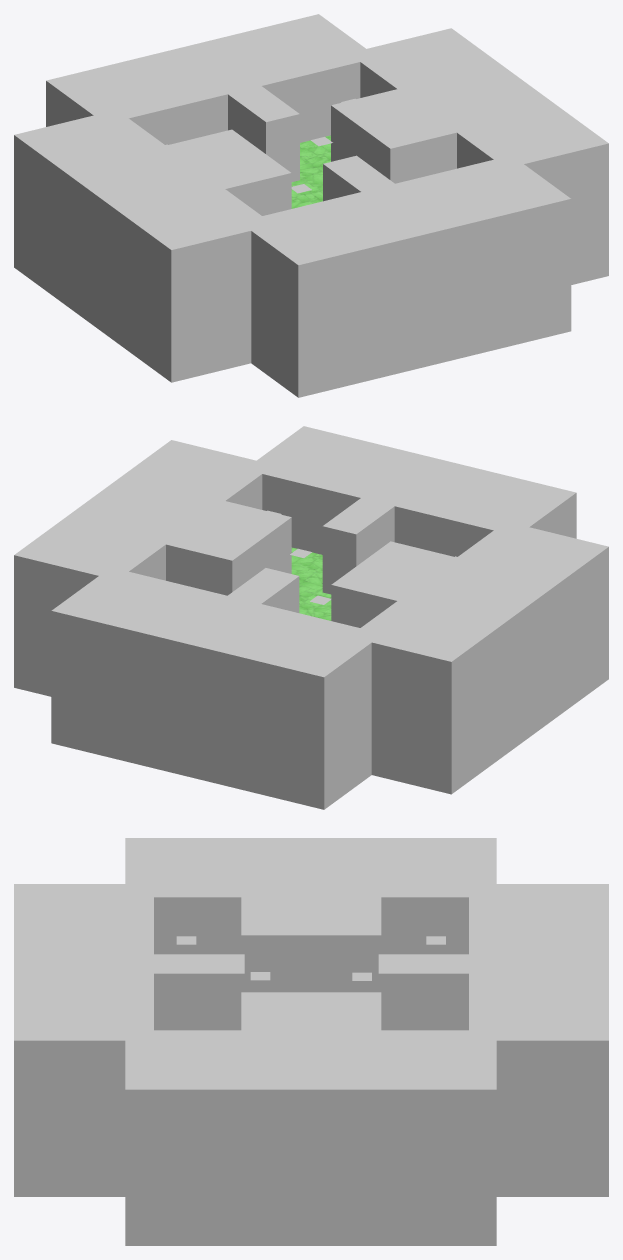
Rendered from level_00.glb.
The picture shows the model from 3 angles, top to bottom: view 1: azimuth 30°, elevation 25°; view 2: azimuth 150°, elevation 25°; view 3: azimuth 270°, elevation 25°; orthographic projection. The views are drawn at different scales.
Parts seen in each view (by area): view 1: Cube.Invisible.007, Cube.Invisible.008, Cube.Invisible.006, Cube.Invisible.004, Cube.Invisible.001, Cube.Invisible.002, Cube.Invisible.005, Cube.Invisible.003, Cube; view 2: Cube.Invisible.006, Cube.Invisible.008, Cube.Invisible.007, Cube.Invisible.004, Cube.Invisible.001, Cube.Invisible.002, Cube.Invisible.003, Cube.Invisible.005, Cube; view 3: Cube.Invisible.004, Cube.Invisible.006, Cube.Invisible.007, Cube.Invisible.008, Cube.Invisible.002, Cube.Invisible.005, Cube.Invisible.003, Cube.Invisible.001.
Part boxes in pixels (x1=…): Cube.Invisible.007: x1=239, y1=155, x2=571, y2=397; Cube.Invisible.008: x1=14, y1=115, x2=267, y2=382; Cube.Invisible.006: x1=46, y1=14, x2=377, y2=144; Cube.Invisible.004: x1=354, y1=28, x2=608, y2=284; Cube.Invisible.001: x1=331, y1=86, x2=469, y2=183; Cube.Invisible.002: x1=152, y1=129, x2=291, y2=215; Cube.Invisible.005: x1=207, y1=71, x2=299, y2=181; Cube.Invisible.003: x1=323, y1=155, x2=415, y2=207; Cube: x1=291, y1=135, x2=330, y2=208; Cube.Invisible.006: x1=51, y1=567, x2=382, y2=809; Cube.Invisible.008: x1=354, y1=527, x2=608, y2=794; Cube.Invisible.007: x1=244, y1=426, x2=576, y2=556; Cube.Invisible.004: x1=14, y1=440, x2=269, y2=696; Cube.Invisible.001: x1=152, y1=498, x2=291, y2=595; Cube.Invisible.002: x1=331, y1=541, x2=470, y2=627; Cube.Invisible.003: x1=322, y1=483, x2=414, y2=594; Cube.Invisible.005: x1=207, y1=568, x2=299, y2=619; Cube: x1=291, y1=547, x2=331, y2=620; Cube.Invisible.004: x1=125, y1=1030, x2=496, y2=1245; Cube.Invisible.006: x1=469, y1=884, x2=608, y2=1196; Cube.Invisible.007: x1=14, y1=884, x2=153, y2=1196; Cube.Invisible.008: x1=125, y1=838, x2=496, y2=954; Cube.Invisible.002: x1=241, y1=889, x2=381, y2=992; Cube.Invisible.005: x1=378, y1=954, x2=518, y2=1030; Cube.Invisible.003: x1=104, y1=954, x2=244, y2=1030; Cube.Invisible.001: x1=241, y1=992, x2=381, y2=1038.
Size of the model in its own units: 60.46 by 17.5 by 60.41.
1 material, 1 textured.
